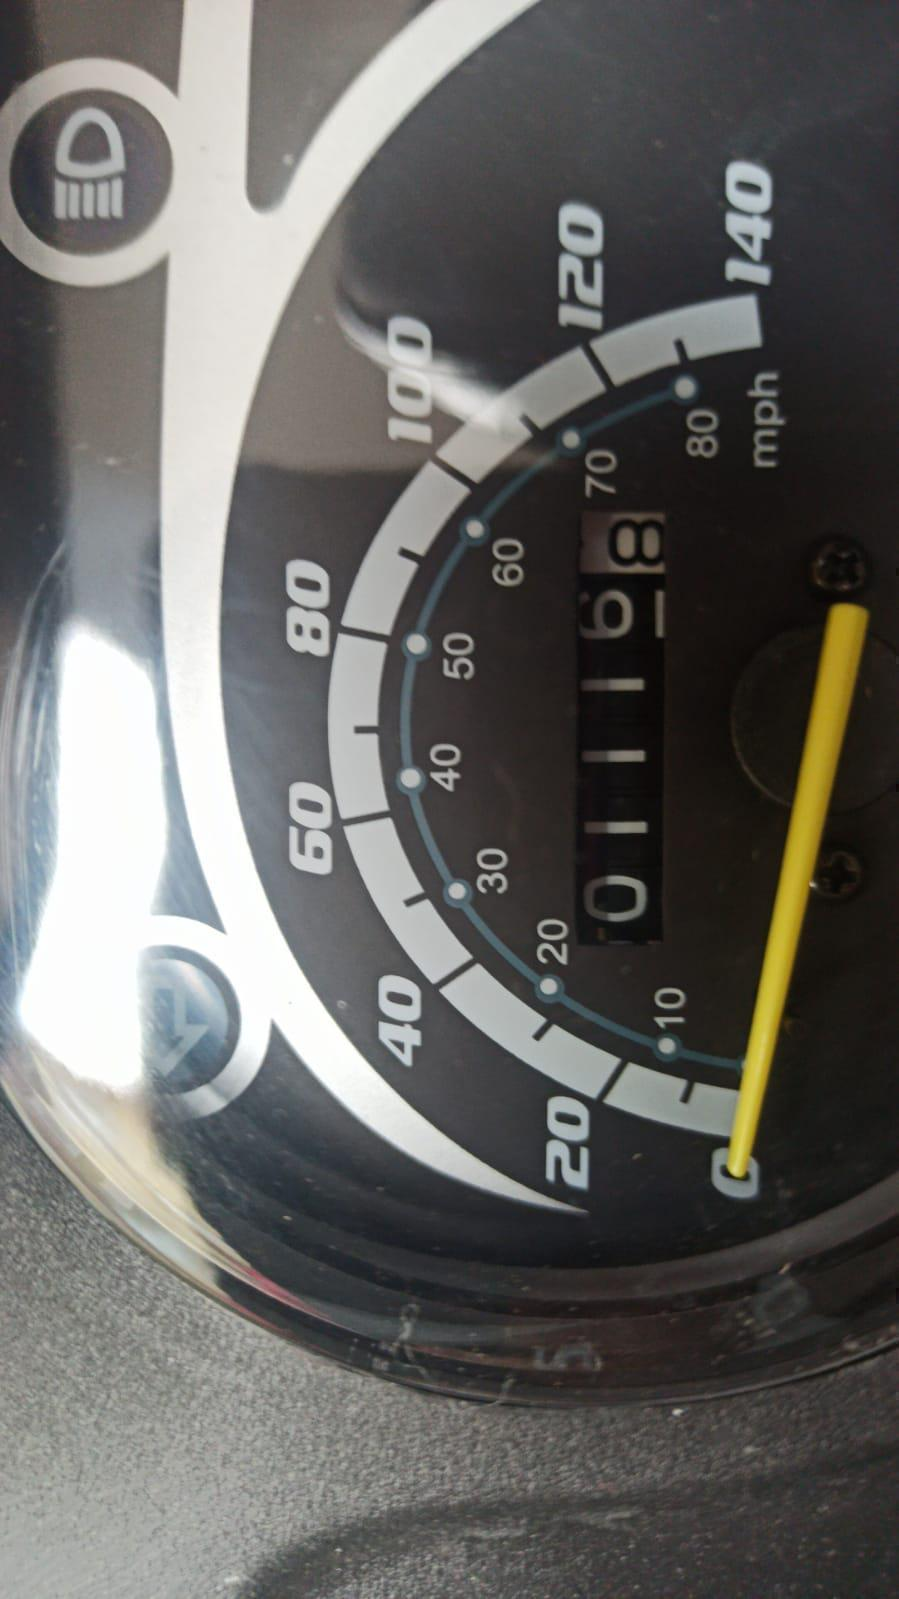0: (578, 871, 652, 924)
1: (575, 740, 660, 771), (578, 814, 665, 841), (577, 671, 658, 697)
6: (571, 584, 640, 641)
8: (600, 508, 666, 569)
odometer: (568, 497, 677, 944)
